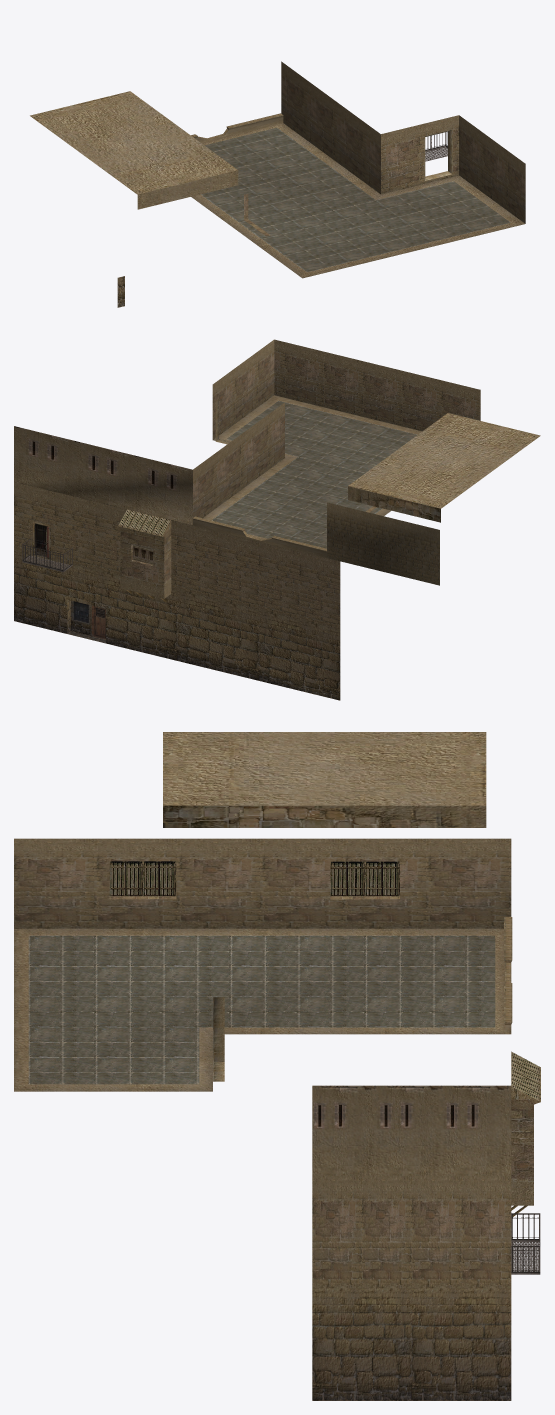
File: M7Z2_WallSection5B.glb
3 views of the same model, one above another, from view 1: azimuth 30°, elevation 25°; view 2: azimuth 150°, elevation 25°; view 3: azimuth 270°, elevation 25° (orthographic). The views are drawn at different scales.
Visible parts, largest first — view 1: M7Z2_WALLSECTION5B; view 2: M7Z2_WALLSECTION5B; view 3: M7Z2_WALLSECTION5B.
Part boxes in pixels (x1,y1,x2,y2): M7Z2_WALLSECTION5B: (30,61,525,307); M7Z2_WALLSECTION5B: (14,339,540,700); M7Z2_WALLSECTION5B: (14,732,540,1400).
Size of the model in its own units: 32 by 15 by 21.2.
17 materials, 17 textured.
